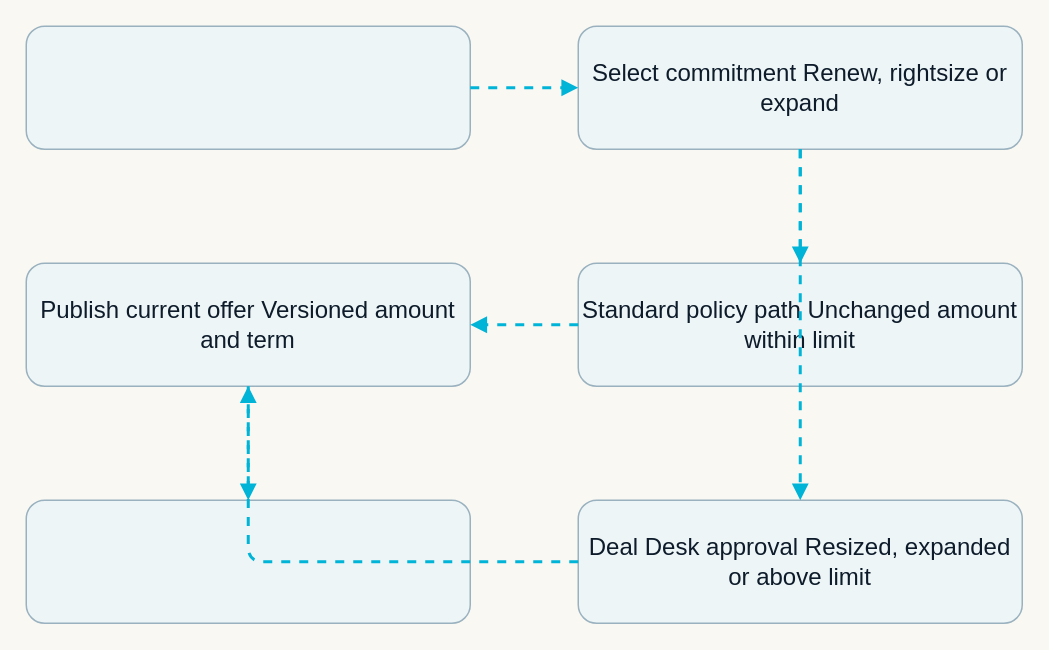
Some shapes in this 1049 by 650 pixel diagram are drawn without their labels. The shapes that lost their labels are listed below. From the top down, each one's centre as x and y in pixels, then its label:
At point (247, 87): "Current usage picture Coverage + utilization + risk".
At point (247, 561): "Buyer accepts New pool starts at term start".
